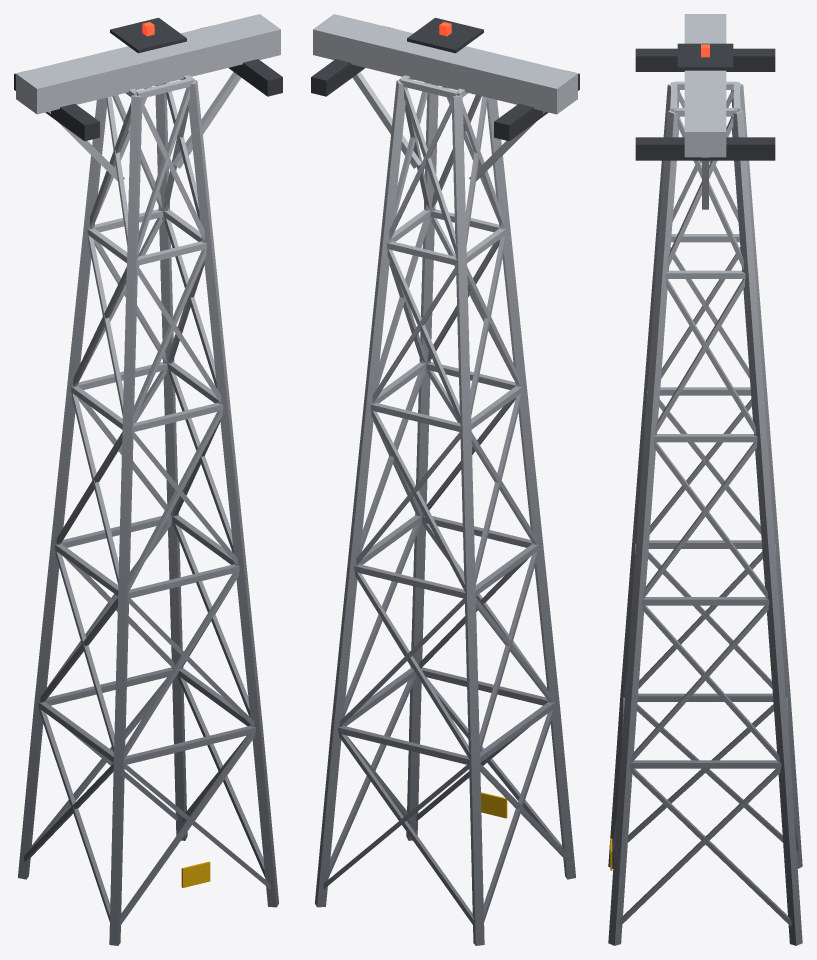
Rendered from CableCar_Pylon.fbx.
3 renders of one model, left to right at view 1: azimuth 30°, elevation 25°; view 2: azimuth 150°, elevation 25°; view 3: azimuth 270°, elevation 25°, orthographic.
Visible parts, largest first — view 1: CableCar_Pylon_LOD0; view 2: CableCar_Pylon_LOD0; view 3: CableCar_Pylon_LOD0.
Boxes of the visible parts, x1=… form: CableCar_Pylon_LOD0: x1=14, y1=14, x2=282, y2=945; CableCar_Pylon_LOD0: x1=311, y1=14, x2=579, y2=945; CableCar_Pylon_LOD0: x1=608, y1=14, x2=802, y2=945.
Size of what is drawn, in the model's own units: 8 by 27.16 by 5.57.
1 material, 1 textured.
